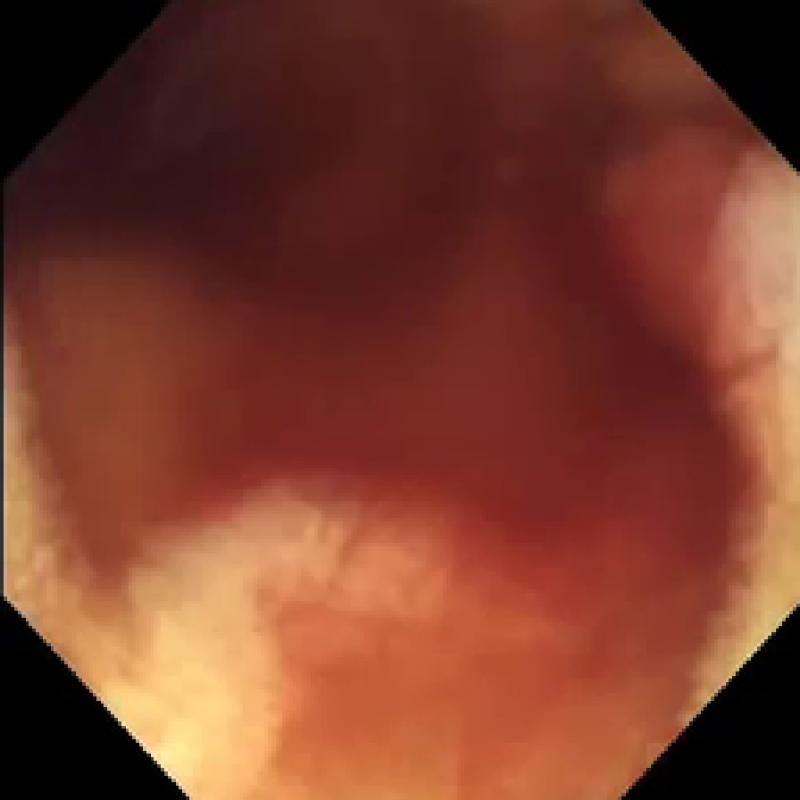bleeding: (39, 0, 736, 700)
